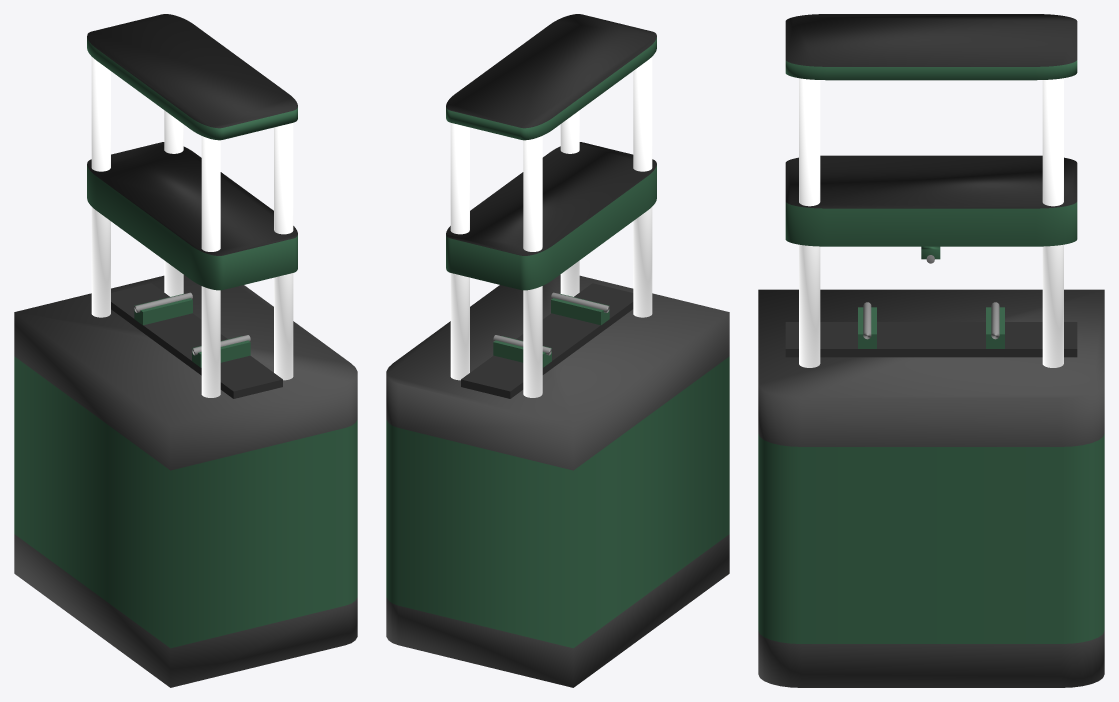
The model's file is Lab_Flexion.gltf.
3 renders of one model, left to right at view 1: azimuth 30°, elevation 25°; view 2: azimuth 150°, elevation 25°; view 3: azimuth 270°, elevation 25°, orthographic. The views are drawn at different scales.
Parts seen in each view (by area): view 1: Lab_Flexion_name (×7), Cylinder.003, Cylinder.005, Plane.002; view 2: Lab_Flexion_name (×7), Cylinder.003, Cylinder.005, Plane.002; view 3: Lab_Flexion_name (×6), Cylinder.005, Plane.002.
Part boxes in pixels (x1=…): Lab_Flexion_name (×7): x1=14, y1=14, x2=357, y2=687; Cylinder.003: x1=91, y1=57, x2=110, y2=317; Cylinder.005: x1=164, y1=110, x2=183, y2=296; Plane.002: x1=192, y1=336, x2=250, y2=367; Lab_Flexion_name (×7): x1=386, y1=14, x2=729, y2=687; Cylinder.003: x1=523, y1=136, x2=542, y2=397; Cylinder.005: x1=450, y1=123, x2=469, y2=380; Plane.002: x1=551, y1=293, x2=609, y2=325; Lab_Flexion_name (×6): x1=758, y1=14, x2=1104, y2=687; Cylinder.005: x1=1042, y1=78, x2=1063, y2=367; Plane.002: x1=858, y1=307, x2=876, y2=348.
Size of the model in its own units: 1.2 by 3.07 by 1.62.
